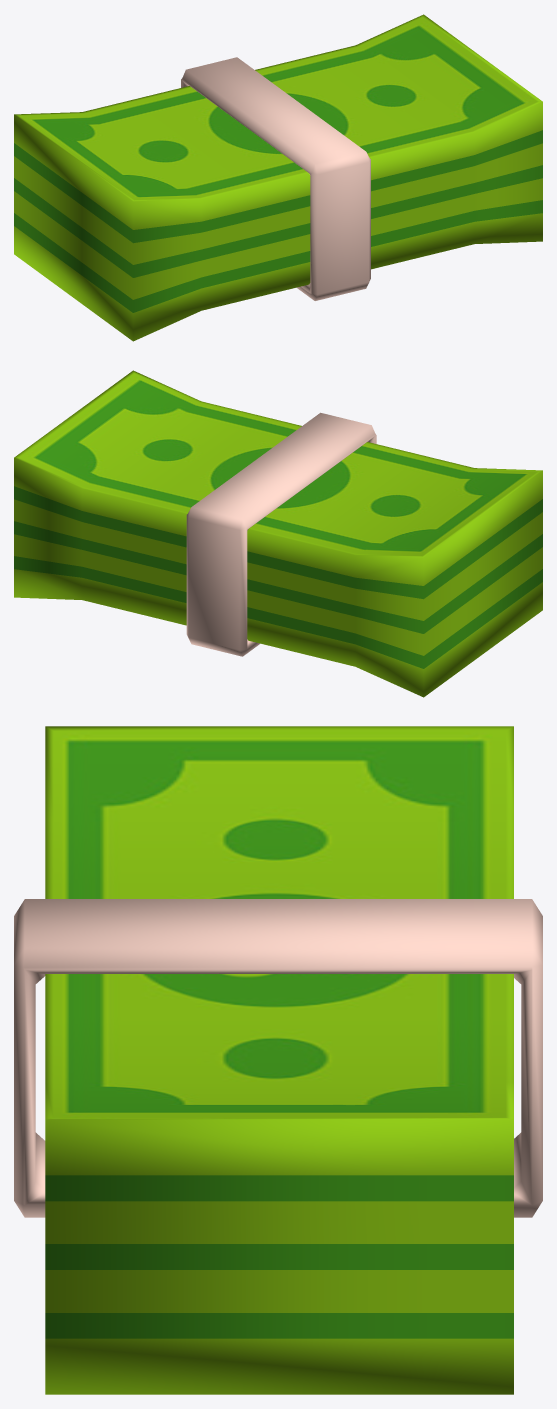
Rendered from money_.fbx.
3 renders of one model, top to bottom at view 1: azimuth 30°, elevation 25°; view 2: azimuth 150°, elevation 25°; view 3: azimuth 270°, elevation 25°, orthographic. The views are drawn at different scales.
Visible parts, largest first — view 1: money_box.001; view 2: money_box.001; view 3: money_box.001.
Boxes of the visible parts, x1,y1,x2,y2 form: money_box.001: (14, 14, 542, 341); money_box.001: (14, 370, 542, 697); money_box.001: (14, 726, 542, 1394).
Bounding box in the file's own units: 115 × 37.38 × 65.18.
